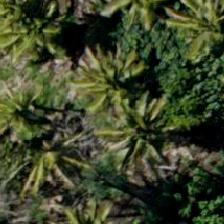Kelapa_Sawit: (98, 90, 188, 180), (64, 38, 154, 128), (6, 114, 96, 204), (0, 70, 65, 160), (166, 0, 223, 76), (0, 0, 62, 64)
